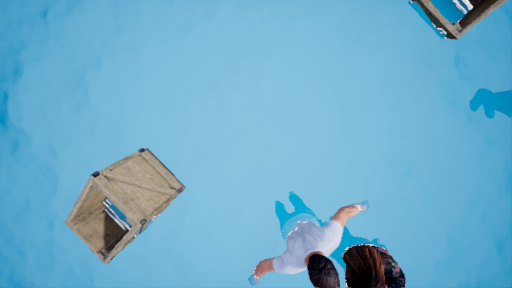person: (242, 190, 408, 281)
